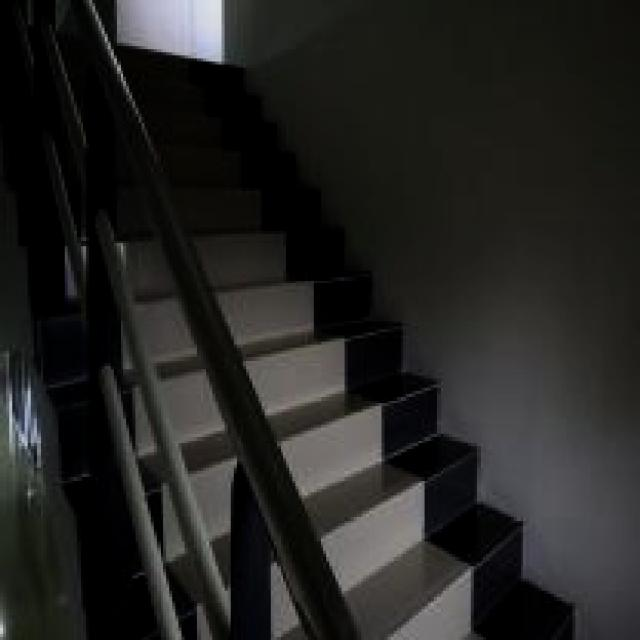upstair: (314, 305, 496, 640), (358, 392, 536, 640)
